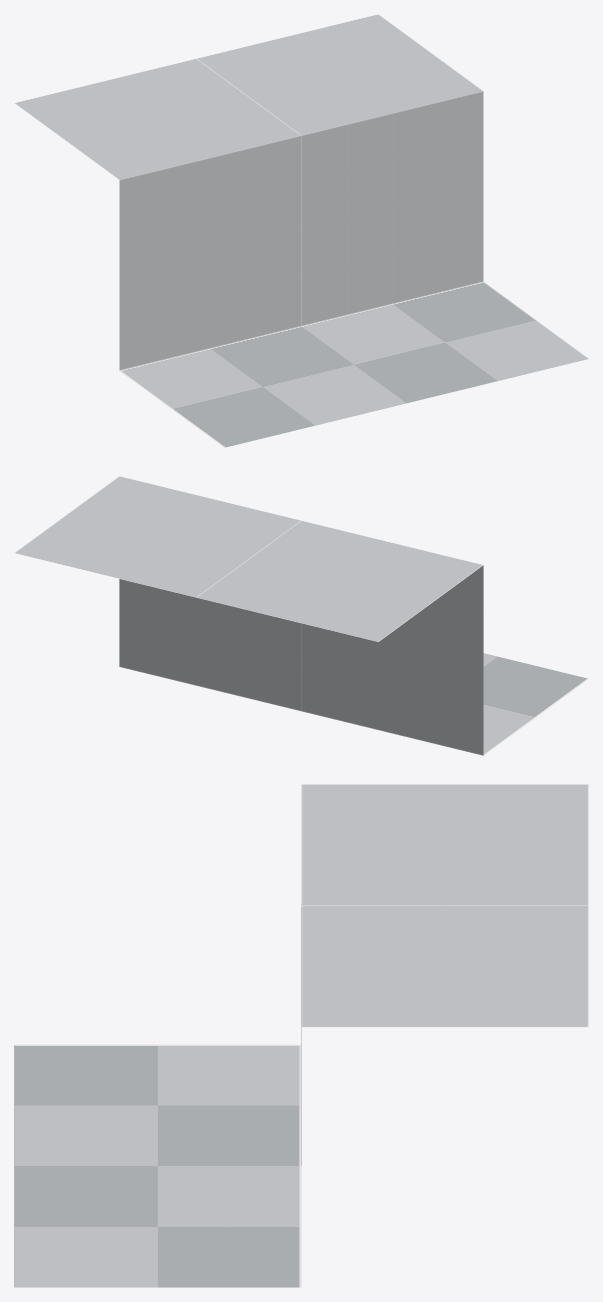
File: wall0101.glb
3 views of the same model, one above another, from view 1: azimuth 30°, elevation 25°; view 2: azimuth 150°, elevation 25°; view 3: azimuth 270°, elevation 25° (orthographic). The views are drawn at different scales.
Parts seen in each view (by area): view 1: interior_wall_model; view 2: interior_wall_model; view 3: interior_wall_model.
Boxes of the visible parts, x1,y1,x2,y2 form: interior_wall_model: (14, 14, 588, 447); interior_wall_model: (14, 476, 588, 755); interior_wall_model: (14, 784, 588, 1287).
Size of the model in its own units: 10 by 5 by 10.
2 materials, 2 textured.
